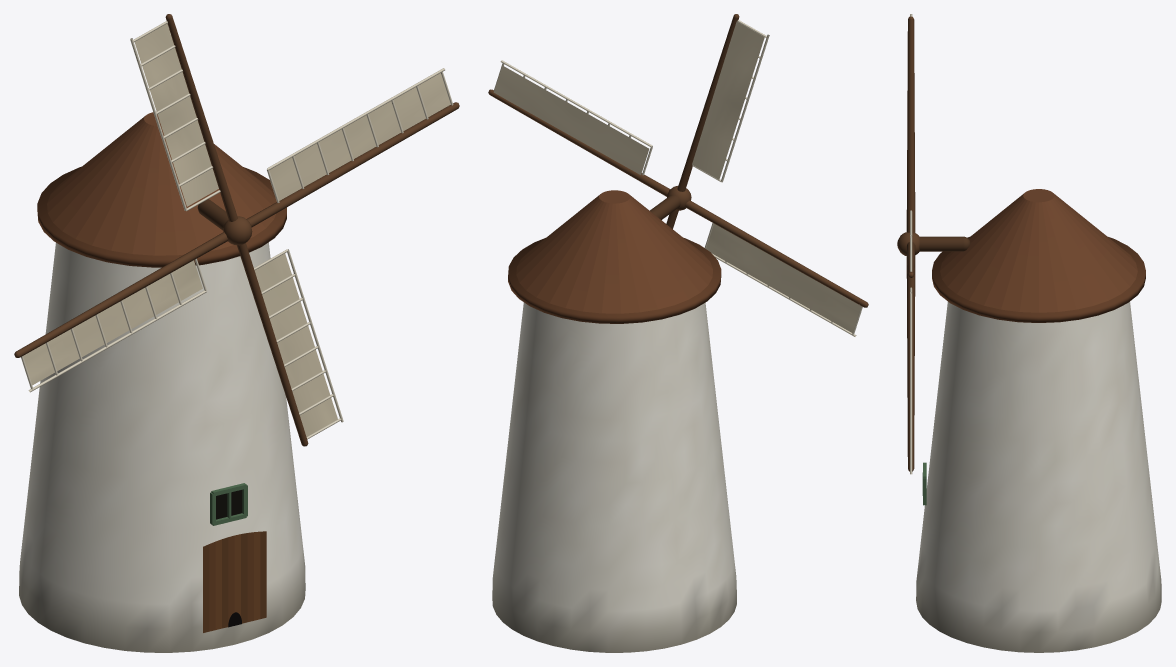
The model's file is Windmill.glb.
3 renders of one model, left to right at view 1: azimuth 30°, elevation 25°; view 2: azimuth 150°, elevation 25°; view 3: azimuth 270°, elevation 25°, orthographic. The views are drawn at different scales.
Parts seen in each view (by area): view 1: Tower, SailCloth, Cap, SailStocks, SailLattice, Door, CapRim, WindowFrame; view 2: Tower, Cap, SailCloth, SailStocks, CapRim, SailLattice; view 3: Tower, Cap, SailStocks, CapRim, Windshaft, SailLattice.
Part boxes in pixels (x1,y1,x2,y2): Tower: (19,242,305,652); SailCloth: (23,23,450,436); Cap: (47,111,276,255); SailStocks: (14,14,459,446); SailLattice: (21,21,453,439); Door: (203,531,266,632); CapRim: (37,166,286,267); WindowFrame: (210,483,247,525); Tower: (492,302,736,652); Cap: (516,190,712,313); SailCloth: (493,21,861,333); SailStocks: (488,14,868,307); CapRim: (508,237,721,323); SailLattice: (493,20,862,336); Tower: (916,301,1161,652); Cap: (940,189,1137,312); SailStocks: (897,16,919,471); CapRim: (932,237,1145,322); Windshaft: (919,236,970,251); SailLattice: (910,14,912,474).
Bounding box in the file's own units: 6.98 × 9.74 × 4.2.
